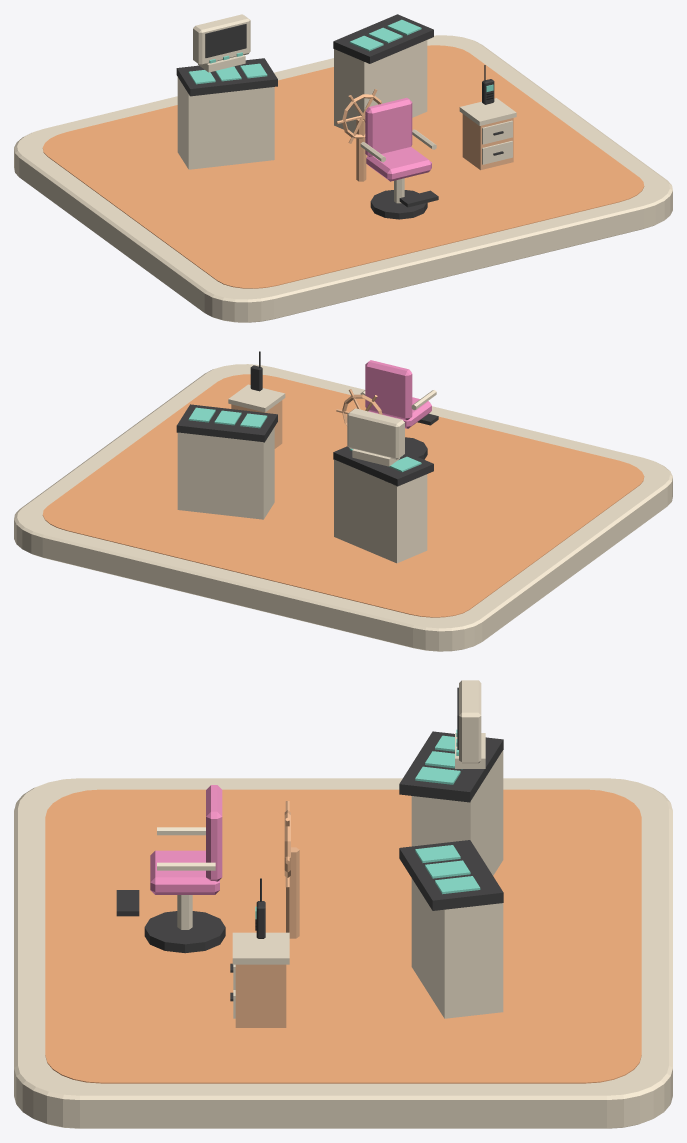
The model's file is room.fbx.
3 views of the same model, one above another, from view 1: azimuth 30°, elevation 25°; view 2: azimuth 150°, elevation 25°; view 3: azimuth 270°, elevation 25° (orthographic). The views are drawn at different scales.
Visible parts, largest first — view 1: COM-02 Floor Surface, COM-01 Rounded Base Direct, Console, Console.001, Back, Panel.001, Panel, Seat, Housing, Body, Base, Readout.006 (+4 smaller); view 2: COM-02 Floor Surface, COM-01 Rounded Base Direct, Console.001, Console, Back, Housing, Panel.001, Panel, Top, Body; view 3: COM-02 Floor Surface, COM-01 Rounded Base Direct, Console.001, Console, Panel.001, Body, Panel, Base, Seat, Housing, Top, Back (+1 smaller).
Boxes of the visible parts, <box> form: COM-02 Floor Surface: <box>42,45,644,288</box>; COM-01 Rounded Base Direct: <box>14,35,672,322</box>; Console: <box>177,77,274,169</box>; Console.001: <box>334,40,427,132</box>; Back: <box>365,97,412,156</box>; Panel.001: <box>333,14,433,63</box>; Panel: <box>176,58,277,96</box>; Seat: <box>366,147,431,181</box>; Housing: <box>193,14,250,65</box>; Body: <box>462,114,513,170</box>; Base: <box>370,190,427,219</box>; Readout.006: <box>205,24,246,57</box>; COM-02 Floor Surface: <box>42,374,644,617</box>; COM-01 Rounded Base Direct: <box>14,364,672,651</box>; Console.001: <box>177,427,274,519</box>; Console: <box>334,459,427,563</box>; Back: <box>365,360,412,420</box>; Housing: <box>347,408,404,459</box>; Panel.001: <box>176,404,277,442</box>; Panel: <box>333,446,433,486</box>; Top: <box>228,384,285,412</box>; Body: <box>231,400,282,448</box>; COM-02 Floor Surface: <box>45,789,641,1083</box>; COM-01 Rounded Base Direct: <box>14,778,672,1128</box>; Console.001: <box>411,878,503,1018</box>; Console: <box>411,750,503,875</box>; Panel.001: <box>399,840,503,910</box>; Body: <box>235,964,286,1027</box>; Panel: <box>399,731,503,802</box>; Base: <box>144,911,225,953</box>; Seat: <box>150,850,219,894</box>; Housing: <box>459,680,481,763</box>; Top: <box>232,932,289,964</box>; Back: <box>206,785,222,881</box>.
Size of the model in its own units: 600 by 192 by 520.
